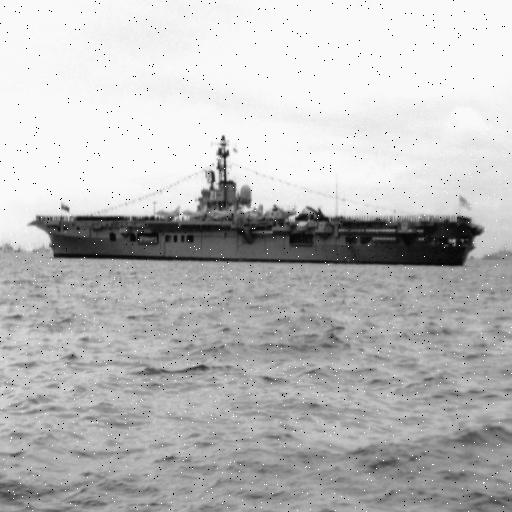Portanaves: (27, 125, 487, 267)
